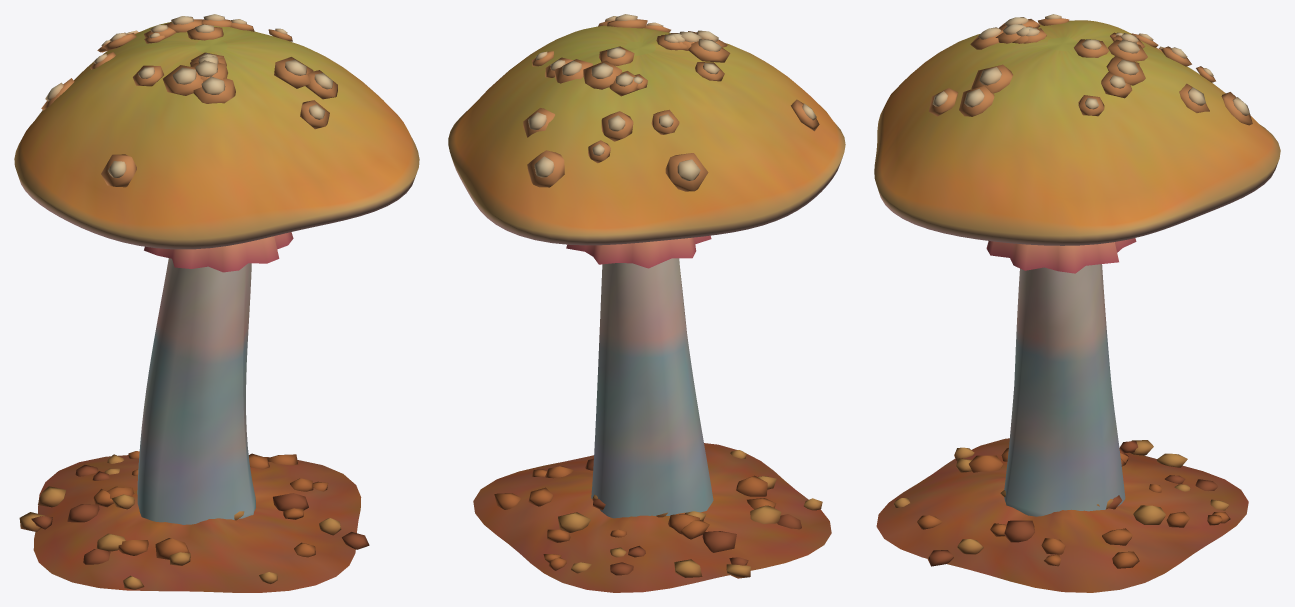
File: mantar_buyuk.glb
The picture shows the model from 3 angles, left to right: view 1: azimuth 30°, elevation 25°; view 2: azimuth 150°, elevation 25°; view 3: azimuth 270°, elevation 25°; orthographic projection. The views are drawn at different scales.
Visible parts, largest first — view 1: mantar_buyuk_LOD0; view 2: mantar_buyuk_LOD0; view 3: mantar_buyuk_LOD0.
Part boxes in pixels (left/top/right/bottom): mantar_buyuk_LOD0: left=14, top=14, right=419, bottom=592; mantar_buyuk_LOD0: left=448, top=14, right=845, bottom=592; mantar_buyuk_LOD0: left=874, top=14, right=1280, bottom=592.
Size of what is drawn, in the model's own units: 11.44 by 15.26 by 11.51.
